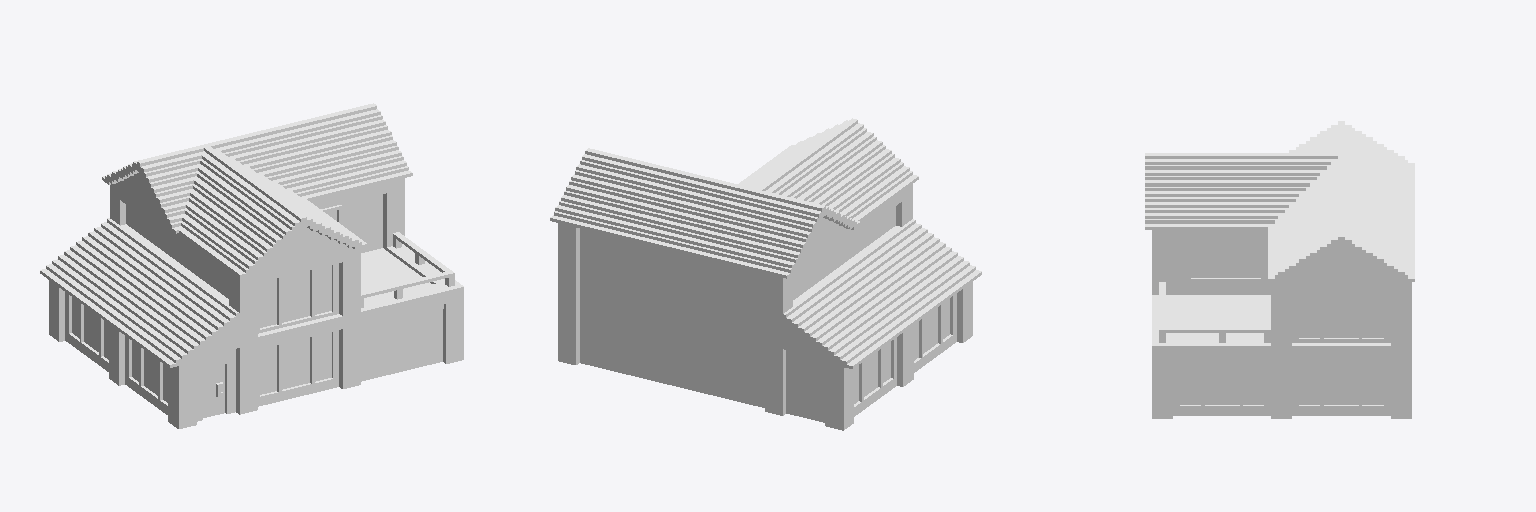
Rendered from Small_home_2.2.obj.
3 views of the same model, side by side, from view 1: azimuth 30°, elevation 25°; view 2: azimuth 150°, elevation 25°; view 3: azimuth 270°, elevation 25° (orthographic).
Parts seen in each view (by area): view 1: object 1; view 2: object 1; view 3: object 1.
Boxes of the visible parts, <box> form: object 1: <box>40,103,463,428</box>; object 1: <box>550,118,981,430</box>; object 1: <box>1145,121,1414,418</box>.
Size of the model in its own units: 9.9 by 5.8 by 7.7.